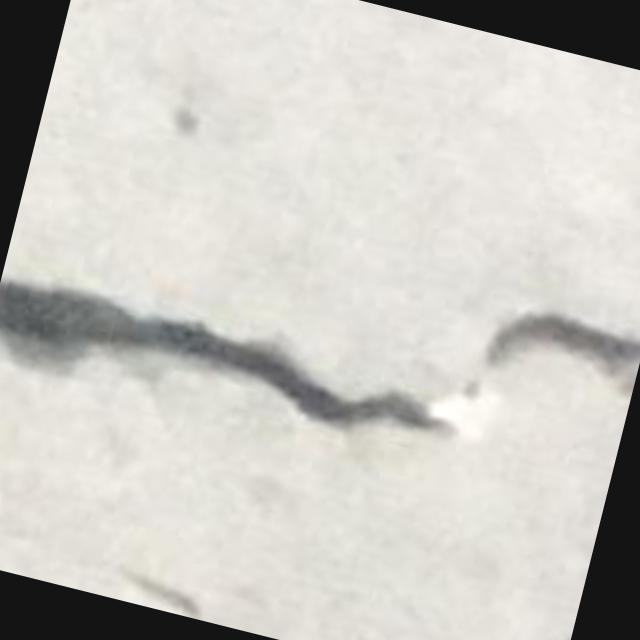crack: (0, 281, 448, 432)
